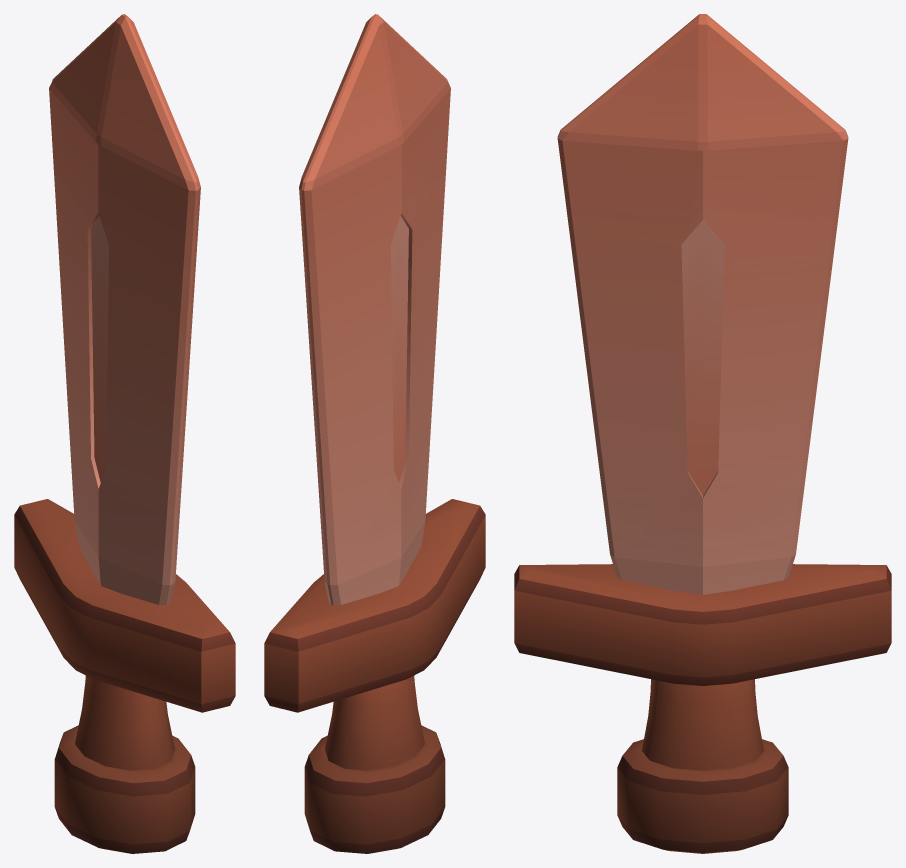
The model's file is Sword_V1_02.fbx.
3 views of the same model, side by side, from view 1: azimuth 30°, elevation 25°; view 2: azimuth 150°, elevation 25°; view 3: azimuth 270°, elevation 25° (orthographic).
Visible parts, largest first — view 1: Sword_V1_02; view 2: Sword_V1_02; view 3: Sword_V1_02.
Part boxes in pixels (left/top/right/bottom): Sword_V1_02: left=14, top=14, right=235, bottom=853; Sword_V1_02: left=264, top=14, right=485, bottom=853; Sword_V1_02: left=514, top=14, right=891, bottom=853.
Bounding box in the file's own units: 5.81 × 39.84 × 16.66.
